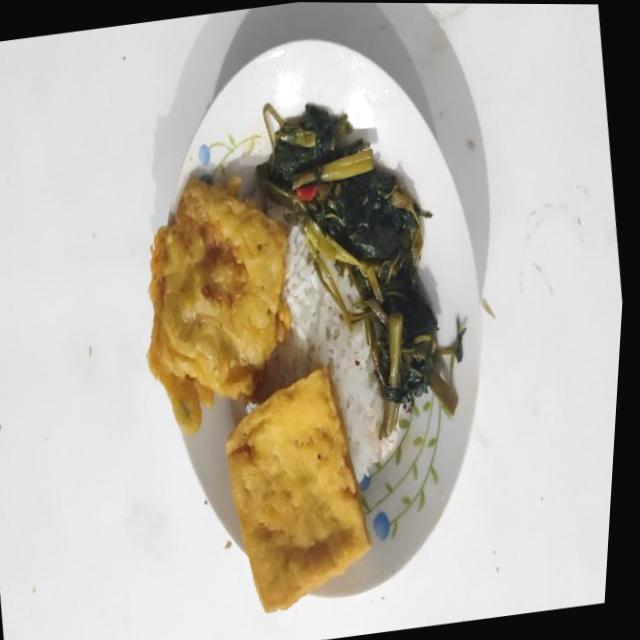nasi_putih: (255, 224, 400, 483)
tahu_goreng: (226, 367, 371, 612)
tumis_kangkung: (257, 102, 466, 438)
